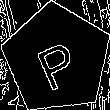P_NW: (30, 28, 83, 90)
